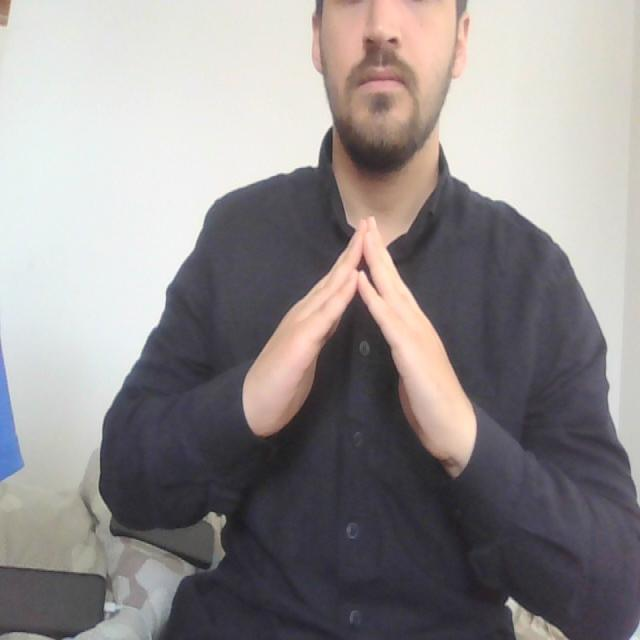Ev: (242, 213, 479, 467)
